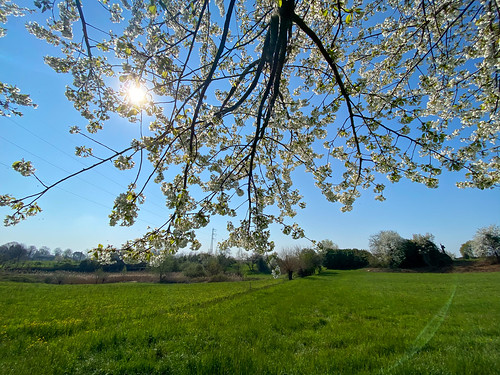grass: (1, 277, 500, 375)
tree: (4, 1, 500, 251)
